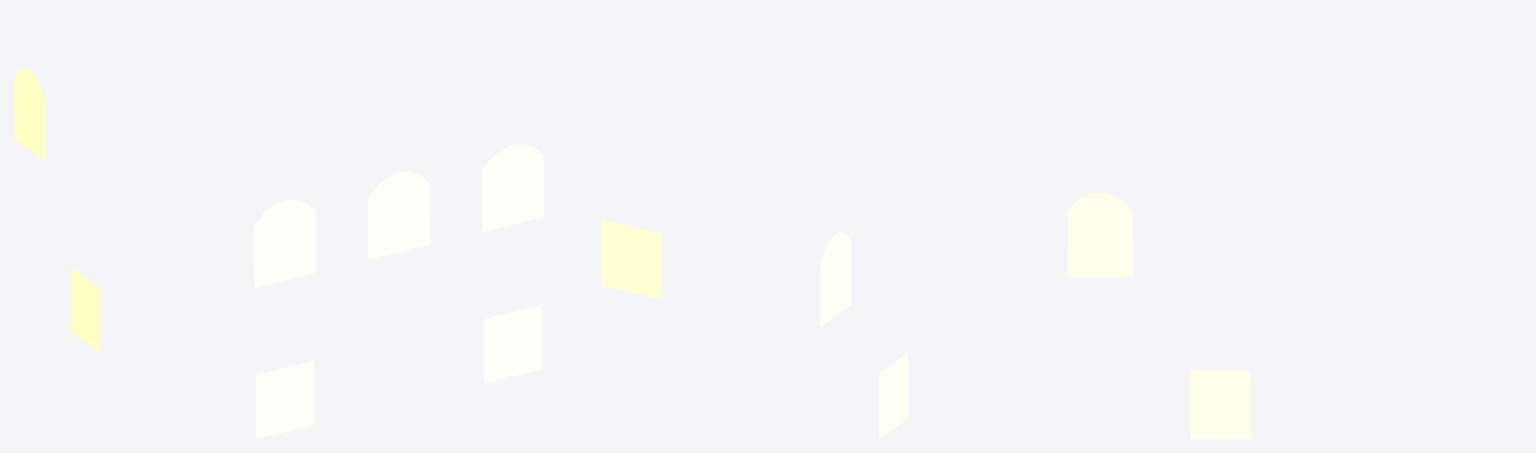
File: bv_kh_b_lit.glb
The picture shows the model from 3 angles, left to right: view 1: azimuth 30°, elevation 25°; view 2: azimuth 150°, elevation 25°; view 3: azimuth 270°, elevation 25°; orthographic projection. The views are drawn at different scales.
Visible parts, largest first — view 1: lit; view 2: lit; view 3: lit.
Part boxes in pixels (box(x1,y1,x2,y2)): lit: box(14, 68, 543, 438); lit: box(602, 219, 908, 438); lit: box(1067, 192, 1250, 438).
Bounding box in the file's own units: 7.03 × 4.52 × 8.02.
